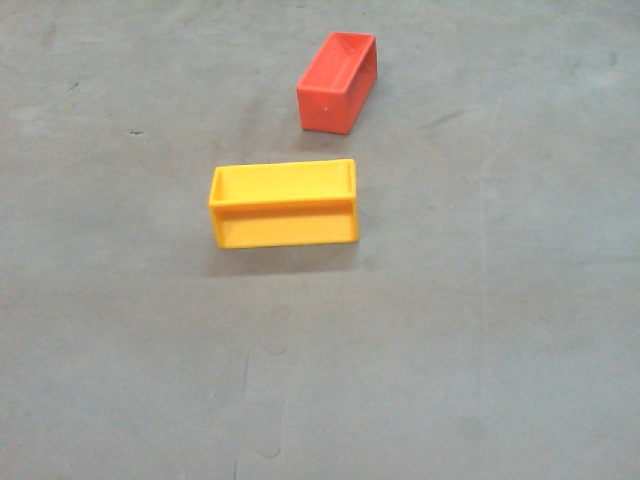RedSample: (296, 28, 381, 135)
YellowSample: (206, 158, 364, 253)
